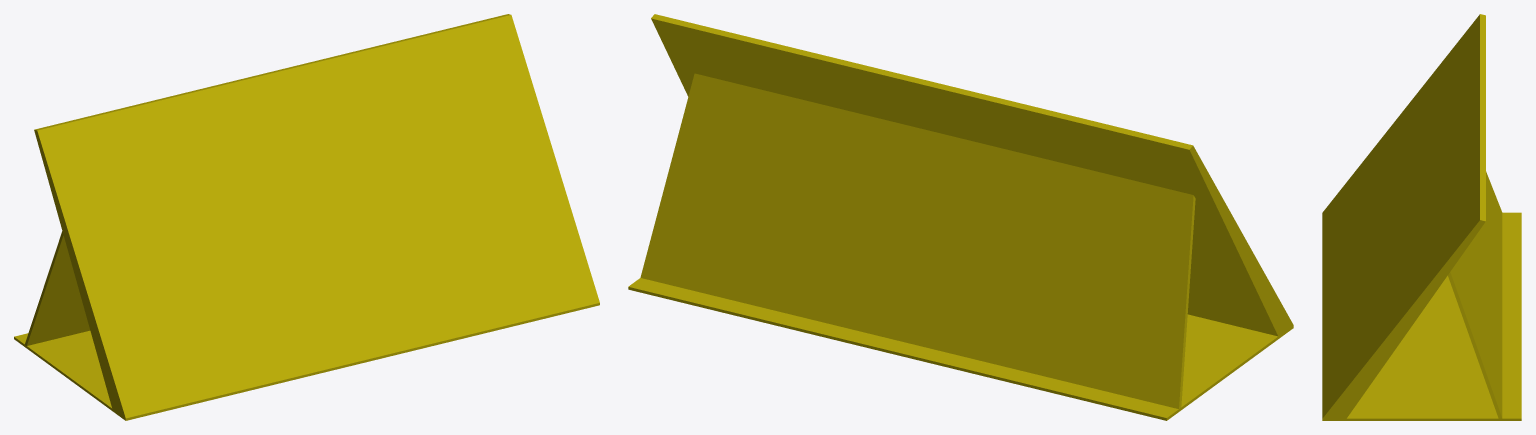
The model's file is office_prop_calendar.FBX.
3 renders of one model, left to right at view 1: azimuth 30°, elevation 25°; view 2: azimuth 150°, elevation 25°; view 3: azimuth 270°, elevation 25°, orthographic. The views are drawn at different scales.
Visible parts, largest first — view 1: office_prop_calendar; view 2: office_prop_calendar; view 3: office_prop_calendar.
Boxes of the visible parts, x1,y1,x2,y2 form: office_prop_calendar: (14, 14, 599, 420); office_prop_calendar: (628, 14, 1293, 420); office_prop_calendar: (1322, 14, 1521, 420).
Bounding box in the file's own units: 40 × 16.33 × 18.19.
